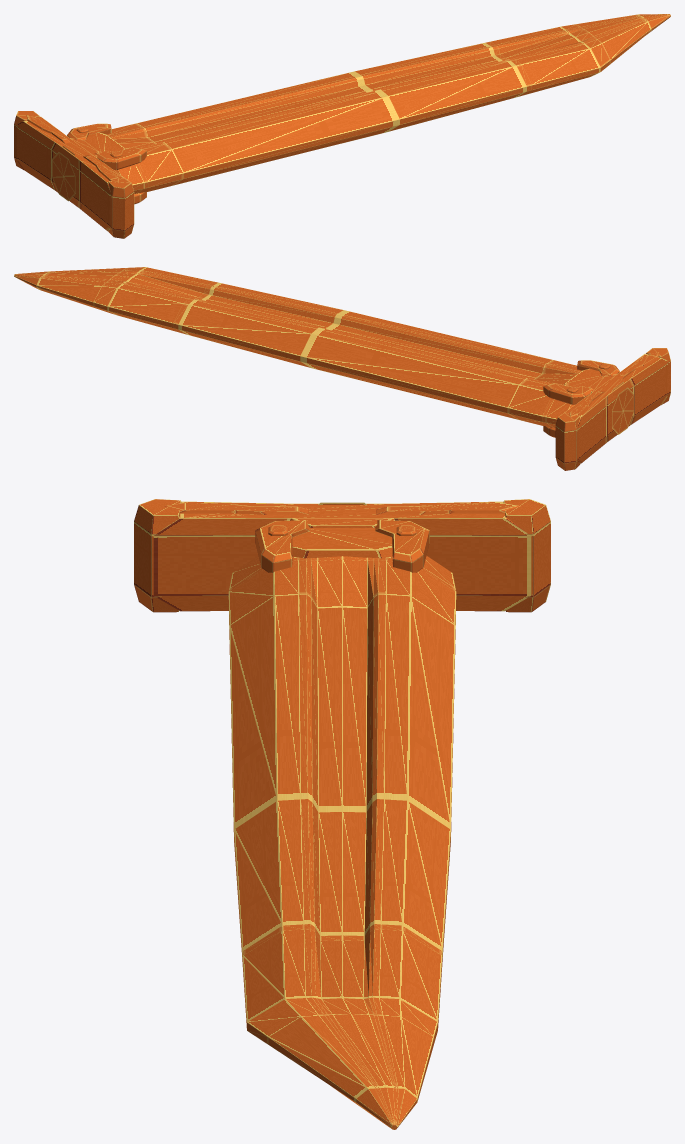
The model's file is bench_xuantie_sword_1_hot.obj.
3 renders of one model, top to bottom at view 1: azimuth 30°, elevation 25°; view 2: azimuth 150°, elevation 25°; view 3: azimuth 270°, elevation 25°, orthographic. The views are drawn at different scales.
Visible parts, largest first — view 1: geometry; view 2: geometry; view 3: geometry.
Part boxes in pixels (x1,y1,x2,y2): geometry: (14, 14, 670, 238); geometry: (14, 267, 670, 470); geometry: (134, 499, 550, 1129).
Bounding box in the file's own units: 0.75 × 0.0616 × 0.2272.
